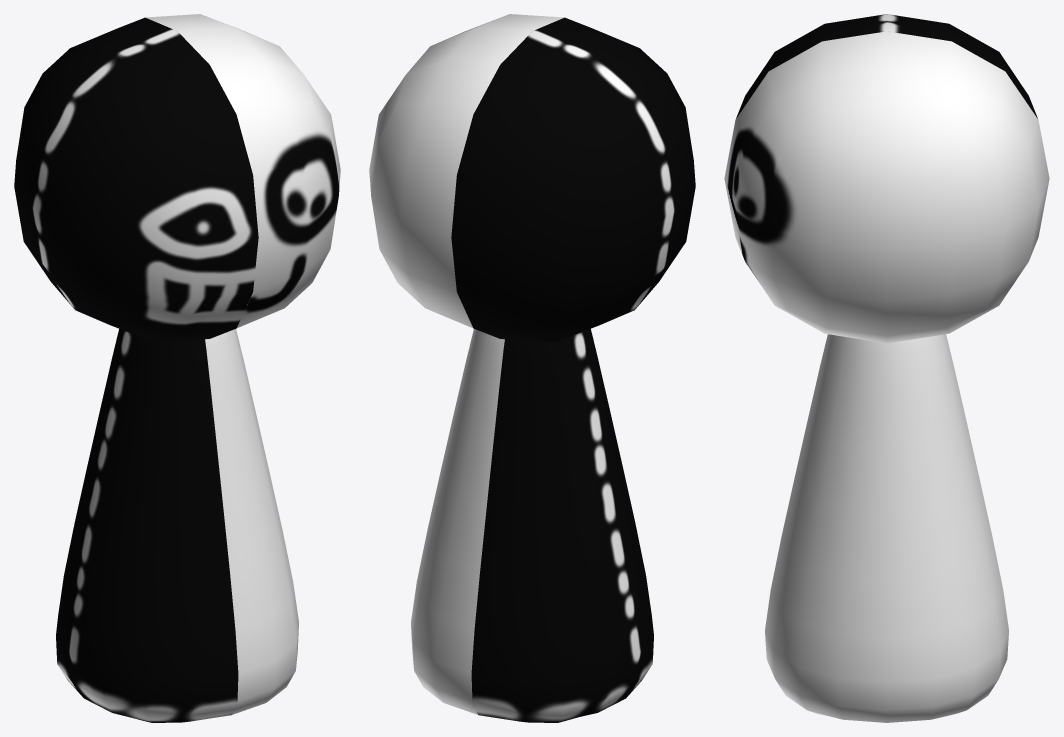
File: DrKell.fbx
The picture shows the model from 3 angles, left to right: view 1: azimuth 30°, elevation 25°; view 2: azimuth 150°, elevation 25°; view 3: azimuth 270°, elevation 25°; orthographic projection.
Parts seen in each view (by area): view 1: Cube.001; view 2: Cube.001; view 3: Cube.001.
Boxes of the visible parts, bbox=[...] form: Cube.001: bbox=[14, 14, 340, 722]; Cube.001: bbox=[369, 14, 695, 722]; Cube.001: bbox=[724, 14, 1049, 722].
Bounding box in the file's own units: 140 × 315 × 140.
Materials: 2 (2 with a texture image).
